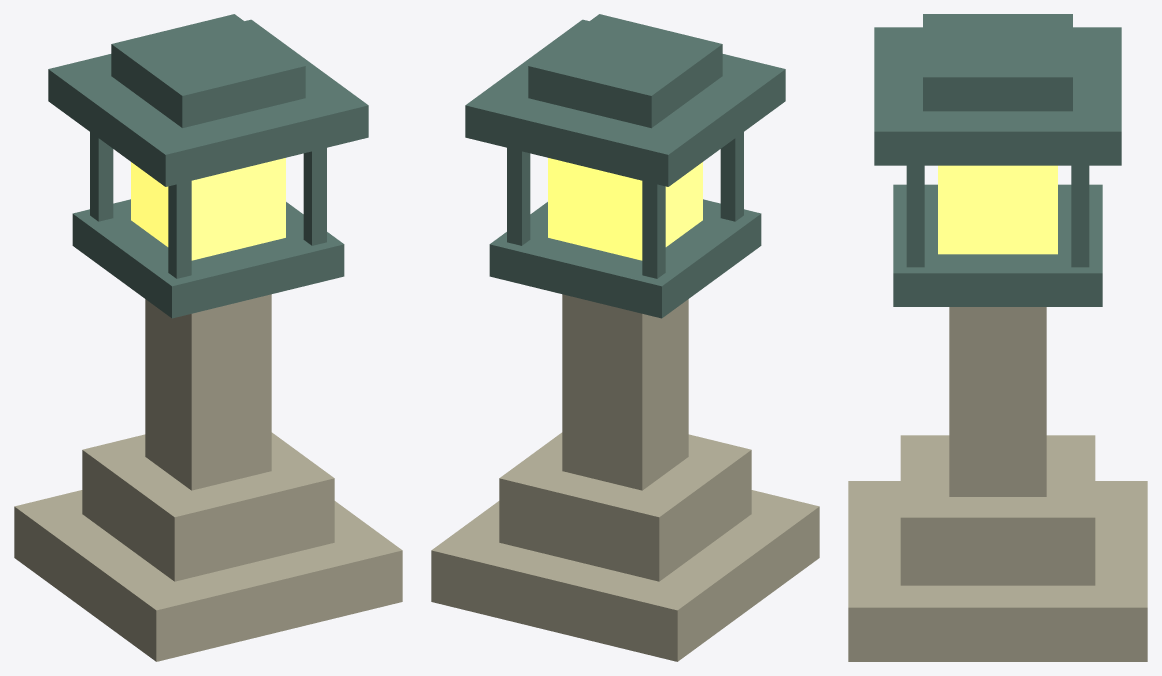
Rendered from beacon.glb.
The picture shows the model from 3 angles, left to right: view 1: azimuth 30°, elevation 25°; view 2: azimuth 150°, elevation 25°; view 3: azimuth 270°, elevation 25°; orthographic projection. The views are drawn at different scales.
Parts seen in each view (by area): view 1: Beacon_foundation, Beacon_plinth, Beacon_column, Beacon_roof, Beacon_lantern_base, Beacon_cap, Beacon_light, Beacon_corner, Beacon_corner.002, Beacon_corner.001; view 2: Beacon_foundation, Beacon_plinth, Beacon_column, Beacon_roof, Beacon_lantern_base, Beacon_cap, Beacon_light, Beacon_corner.001, Beacon_corner.003, Beacon_corner; view 3: Beacon_foundation, Beacon_plinth, Beacon_roof, Beacon_column, Beacon_cap, Beacon_lantern_base, Beacon_light, Beacon_corner.002, Beacon_corner.003.
Part boxes in pixels (bbox=[...]): Beacon_foundation: bbox=[14, 490, 402, 661]; Beacon_plinth: bbox=[82, 432, 334, 581]; Beacon_column: bbox=[145, 294, 271, 490]; Beacon_roof: bbox=[48, 19, 368, 186]; Beacon_lantern_base: bbox=[72, 199, 344, 318]; Beacon_cap: bbox=[111, 14, 305, 128]; Beacon_light: bbox=[131, 158, 285, 260]; Beacon_corner: bbox=[168, 181, 191, 278]; Beacon_corner.002: bbox=[303, 148, 326, 245]; Beacon_corner.001: bbox=[90, 132, 113, 221]; Beacon_foundation: bbox=[431, 490, 819, 661]; Beacon_plinth: bbox=[499, 432, 751, 581]; Beacon_column: bbox=[562, 294, 688, 490]; Beacon_roof: bbox=[465, 19, 785, 186]; Beacon_lantern_base: bbox=[489, 199, 761, 318]; Beacon_cap: bbox=[528, 14, 722, 128]; Beacon_light: bbox=[548, 158, 702, 260]; Beacon_corner.001: bbox=[642, 181, 665, 278]; Beacon_corner.003: bbox=[507, 148, 530, 245]; Beacon_corner: bbox=[720, 132, 743, 221]; Beacon_foundation: bbox=[848, 481, 1147, 661]; Beacon_plinth: bbox=[900, 435, 1095, 585]; Beacon_roof: bbox=[874, 27, 1121, 165]; Beacon_column: bbox=[949, 307, 1046, 496]; Beacon_cap: bbox=[923, 14, 1072, 111]; Beacon_lantern_base: bbox=[893, 184, 1102, 306]; Beacon_light: bbox=[938, 165, 1057, 254]; Beacon_corner.002: bbox=[906, 165, 924, 267]; Beacon_corner.003: bbox=[1071, 165, 1089, 267].
Size of the model in its own units: 2 by 4.08 by 2.
